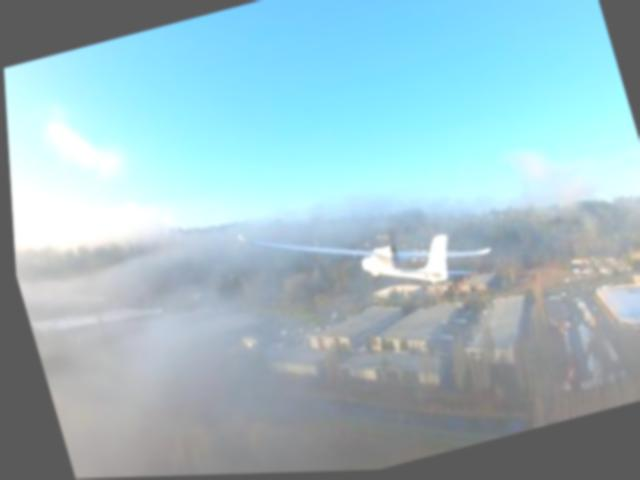uav: (217, 161, 509, 350)
